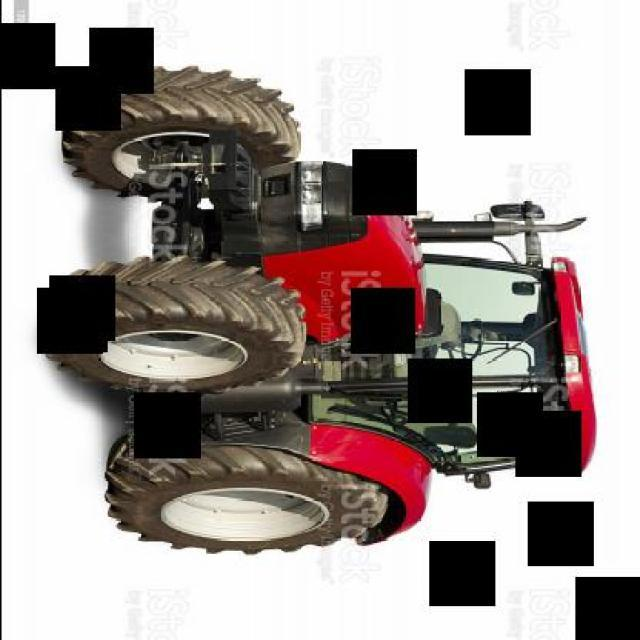Tratores - v5 YOLO V8L 2024-11-13: (3, 56, 619, 562)
